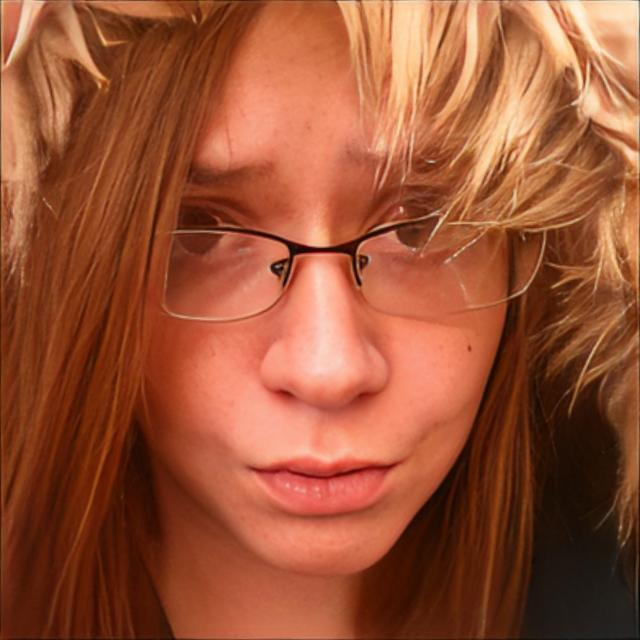sad: (136, 0, 514, 575)
